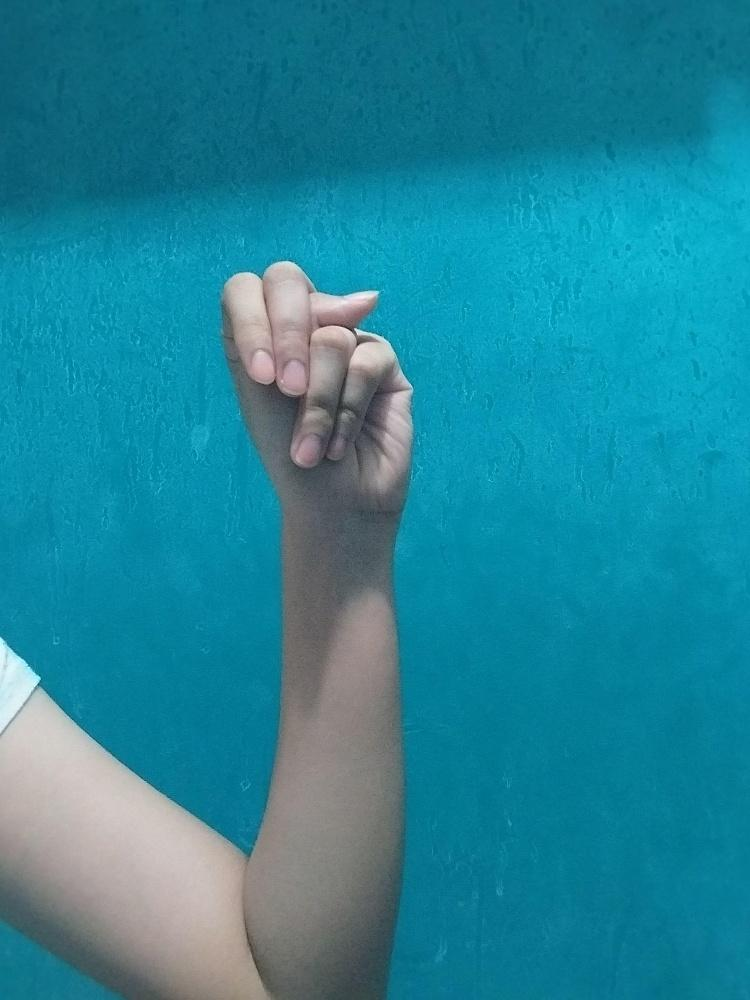n: (216, 255, 416, 513)
